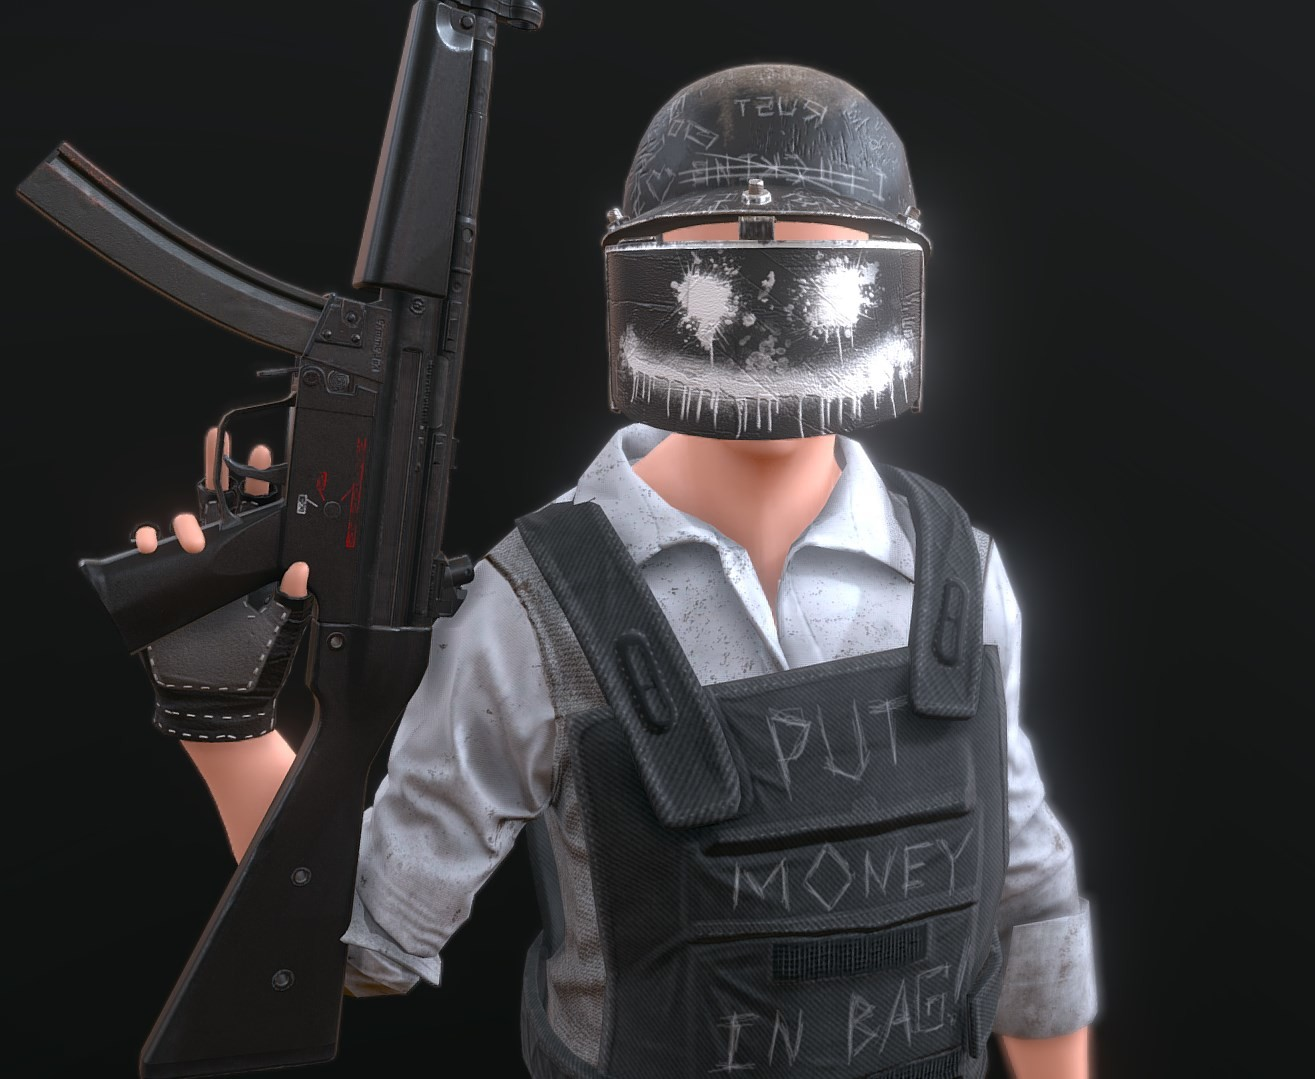helmet: (588, 31, 939, 219)
